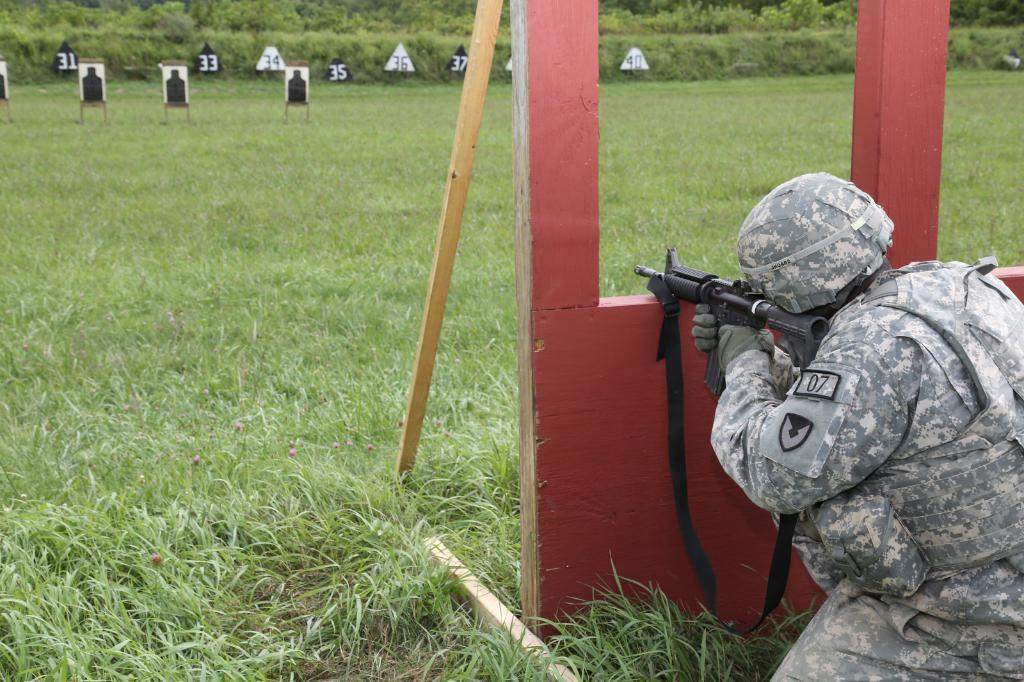Rifle: (630, 243, 831, 638)
